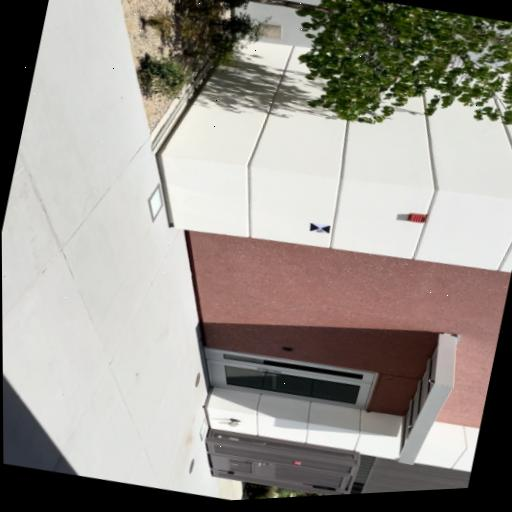target6: (309, 222, 329, 235)
